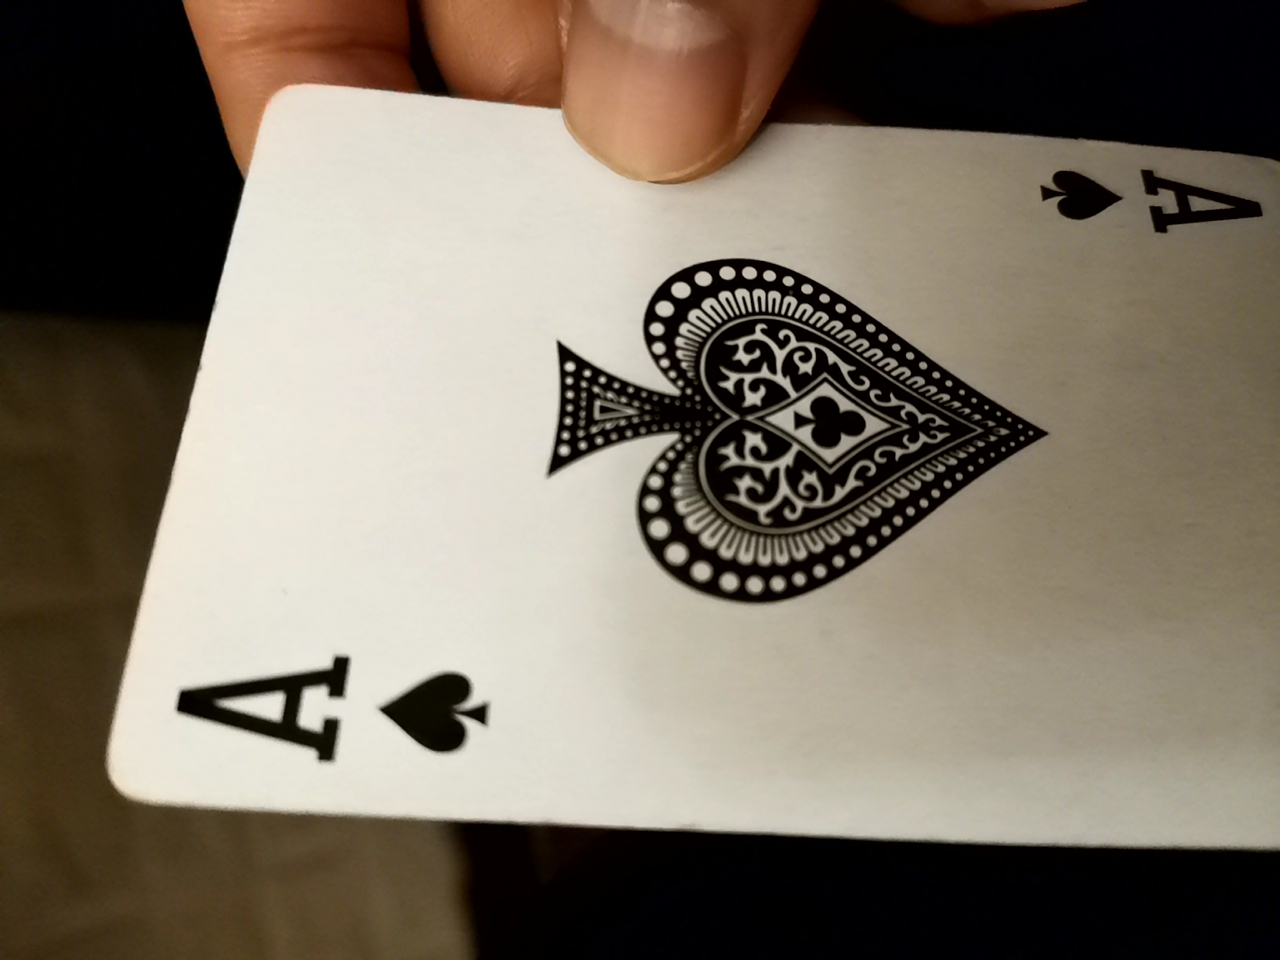ht a: (86, 63, 1275, 880)
